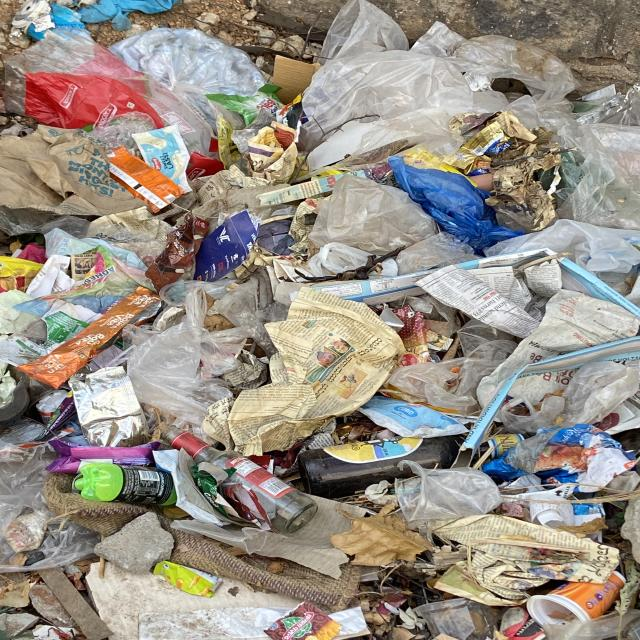chai_nhua: (72, 463, 176, 506)
chai_thuy_tinh: (161, 428, 317, 534), (298, 436, 461, 499)
giay: (477, 289, 640, 407), (265, 287, 406, 419), (435, 515, 620, 607), (0, 124, 145, 215), (417, 249, 563, 337), (201, 385, 335, 456), (312, 269, 435, 305), (256, 168, 372, 205), (561, 260, 639, 314), (247, 121, 297, 184), (197, 164, 269, 204), (92, 206, 169, 240), (510, 371, 574, 405), (460, 248, 552, 271), (288, 198, 322, 256), (221, 350, 268, 390)
giay_goi: (16, 287, 160, 389), (107, 146, 184, 212), (205, 83, 283, 124), (443, 121, 506, 168), (264, 603, 341, 640), (153, 562, 221, 599), (394, 305, 431, 366), (33, 391, 75, 442)
nhom: (67, 367, 148, 447)
nhua: (298, 0, 580, 164), (2, 27, 209, 152), (126, 287, 249, 426), (388, 155, 523, 254), (0, 444, 98, 573), (108, 27, 265, 95), (309, 175, 438, 255), (499, 362, 640, 434), (485, 219, 640, 275), (560, 121, 640, 229), (395, 460, 502, 535), (211, 268, 288, 356), (387, 357, 499, 416), (359, 396, 468, 438), (131, 125, 189, 192), (171, 82, 245, 133), (396, 232, 480, 274), (158, 278, 236, 307), (457, 319, 515, 356)
